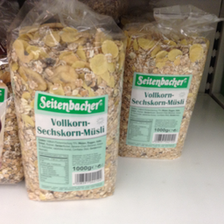cereal: (5, 21, 124, 201), (118, 22, 209, 156)
